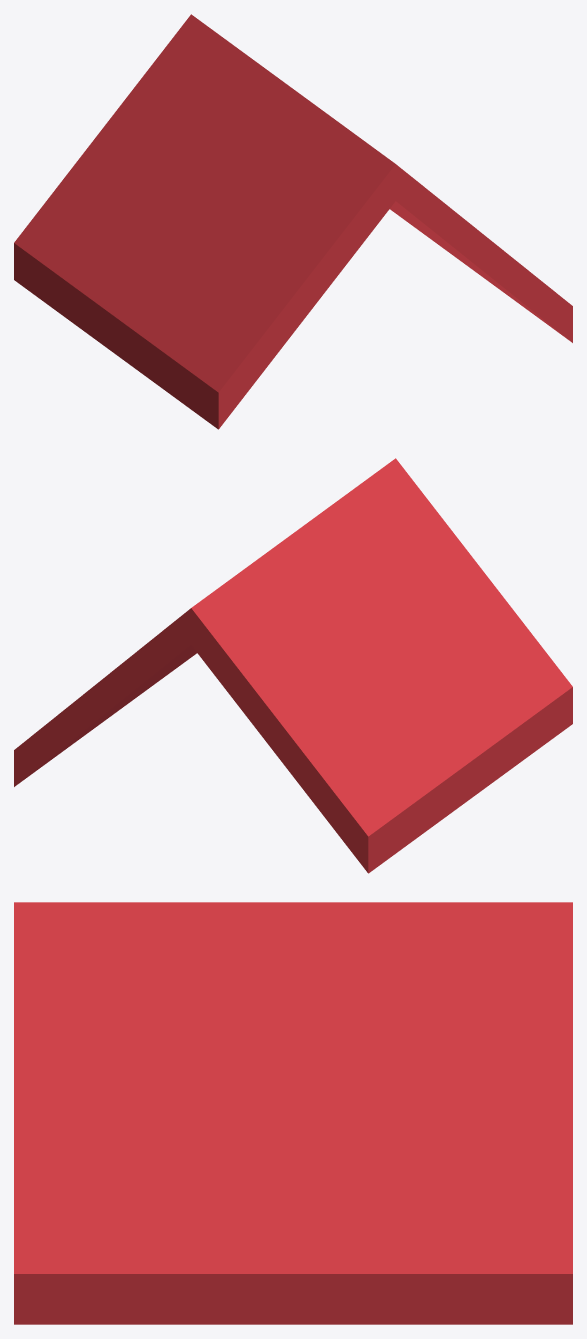
Rendered from roof_hip.glb.
3 views of the same model, one above another, from view 1: azimuth 30°, elevation 25°; view 2: azimuth 150°, elevation 25°; view 3: azimuth 270°, elevation 25° (orthographic). The views are drawn at different scales.
Visible parts, largest first — view 1: roof_hip; view 2: roof_hip; view 3: roof_hip.
Part boxes in pixels (bbox=[...]): roof_hip: bbox=[14, 14, 572, 429]; roof_hip: bbox=[14, 458, 572, 873]; roof_hip: bbox=[14, 902, 572, 1324].
Bounding box in the file's own units: 1 × 0.6 × 1.
